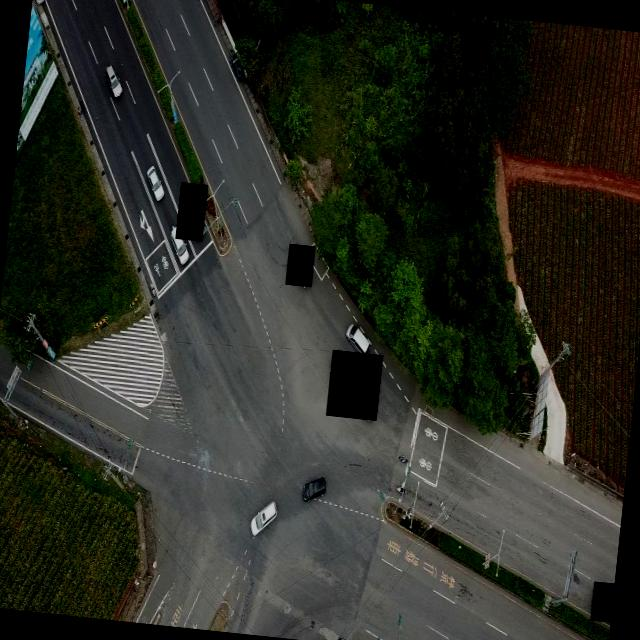car: (248, 498, 279, 540), (142, 164, 168, 202), (168, 236, 194, 269), (345, 321, 372, 352), (302, 473, 328, 502), (104, 64, 124, 98), (230, 54, 247, 80)
